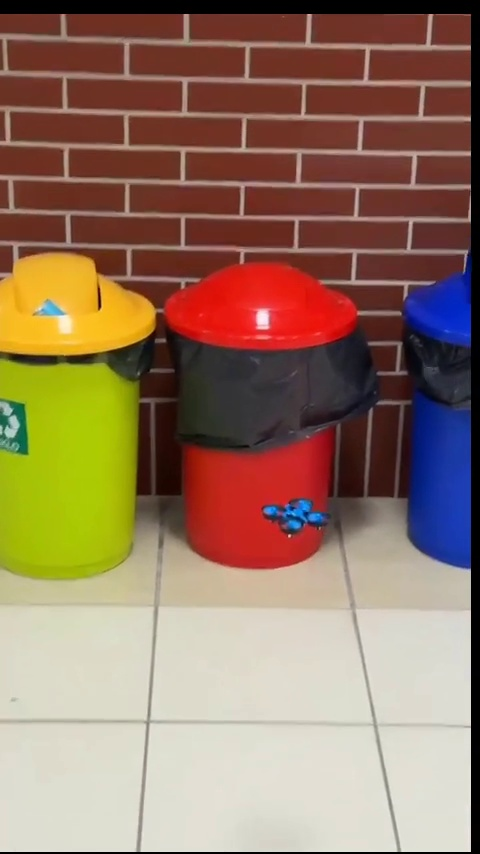drone: (257, 495, 329, 544)
